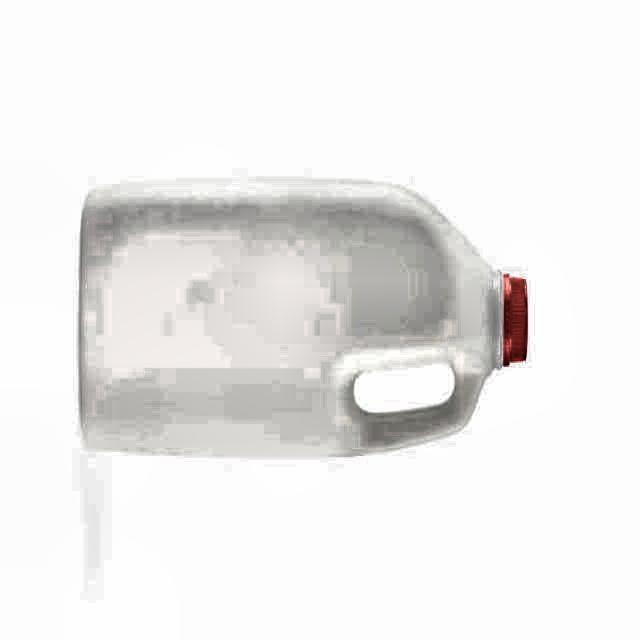plastic: (80, 178, 526, 456)
